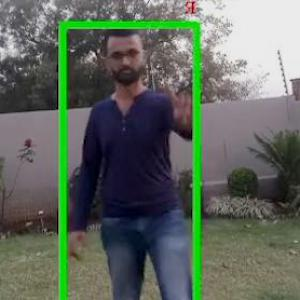takeoff-hand: (163, 74, 204, 128)
